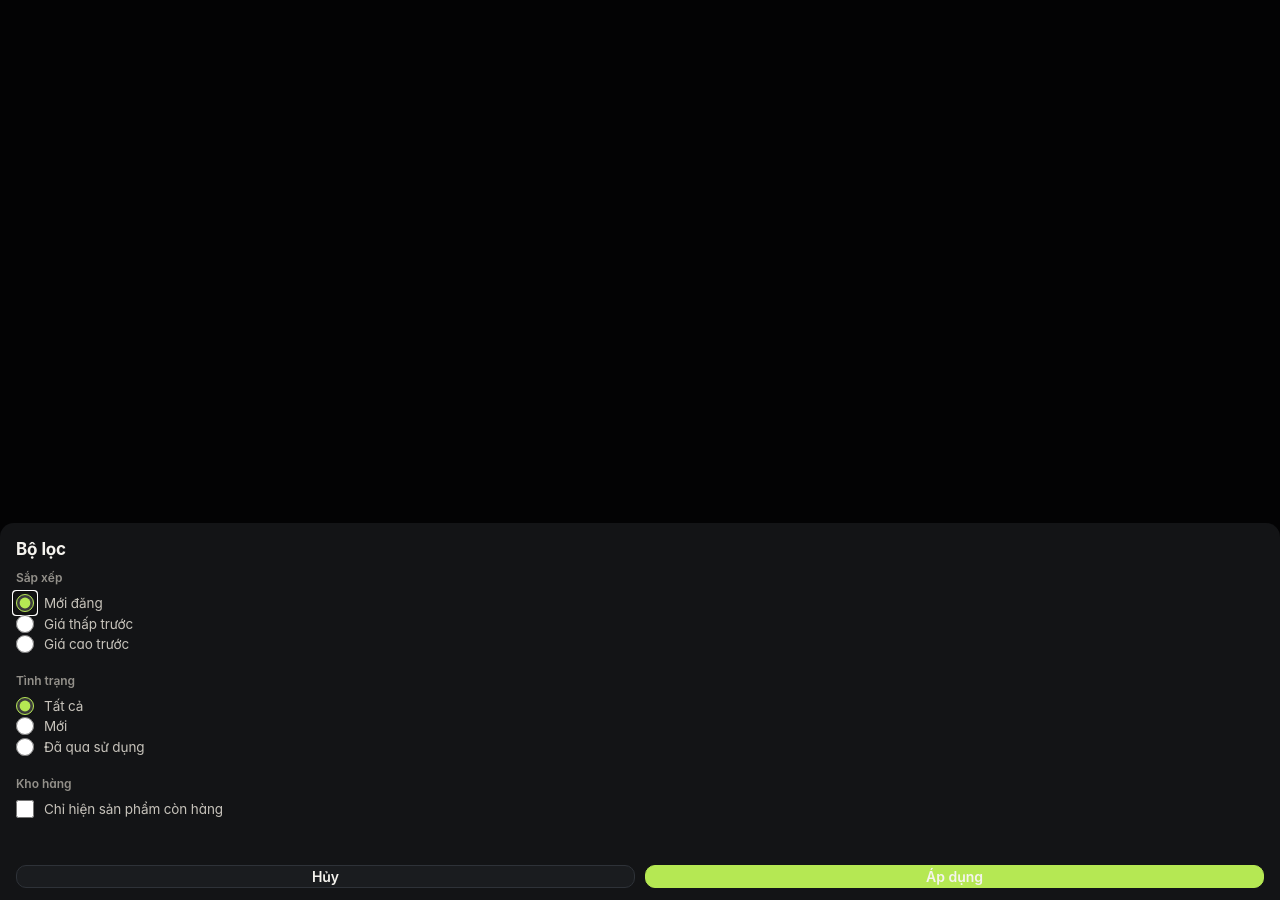
Test case: FilterSheet › shows the stock checkbox as ticked
Click the checkbox labelled "Chỉ hiện sản phẩm còn hàng" at (25, 809), box [16,800,34,818]
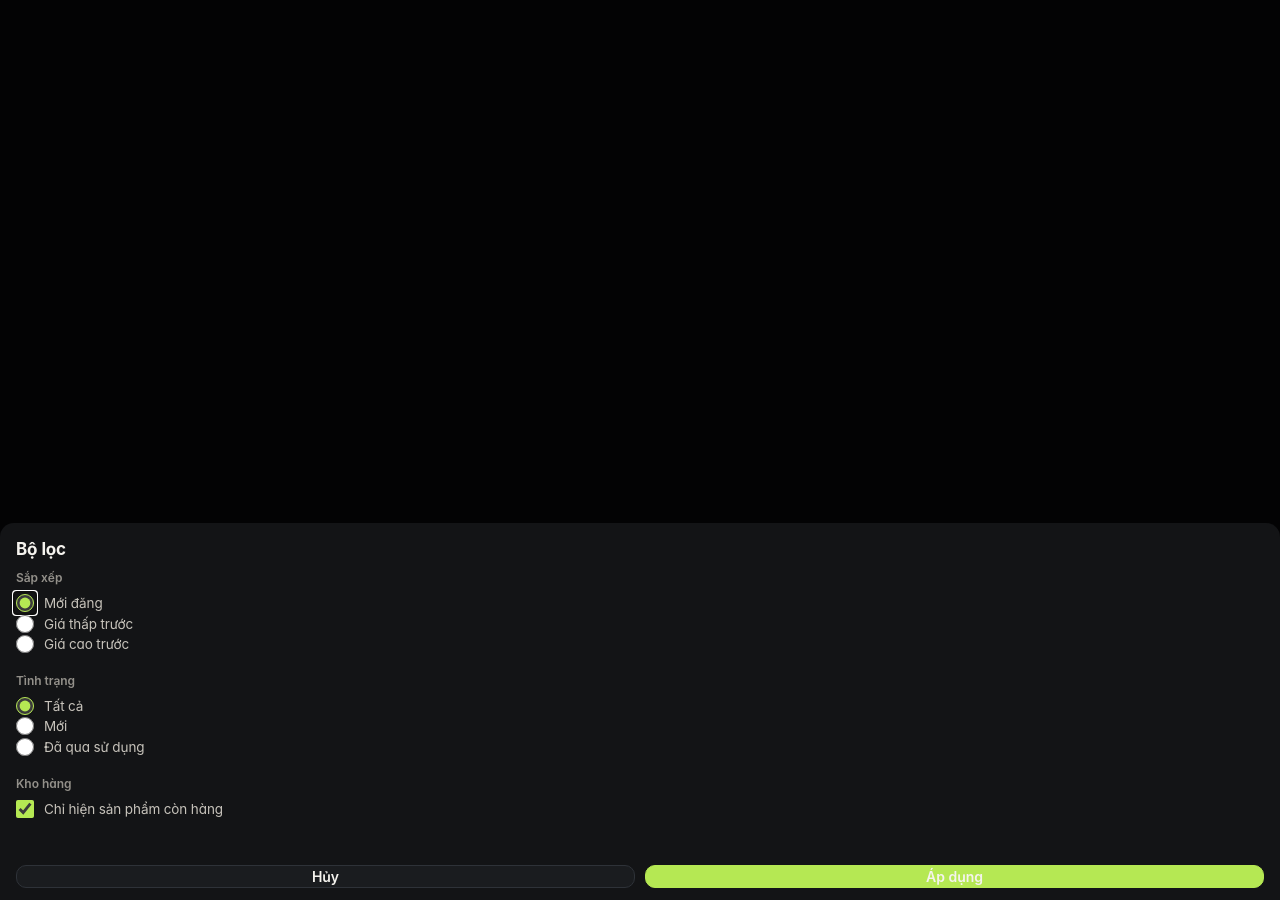
Now the checkbox labelled "Chỉ hiện sản phẩm còn hàng" is checked, box [16,800,34,818]
